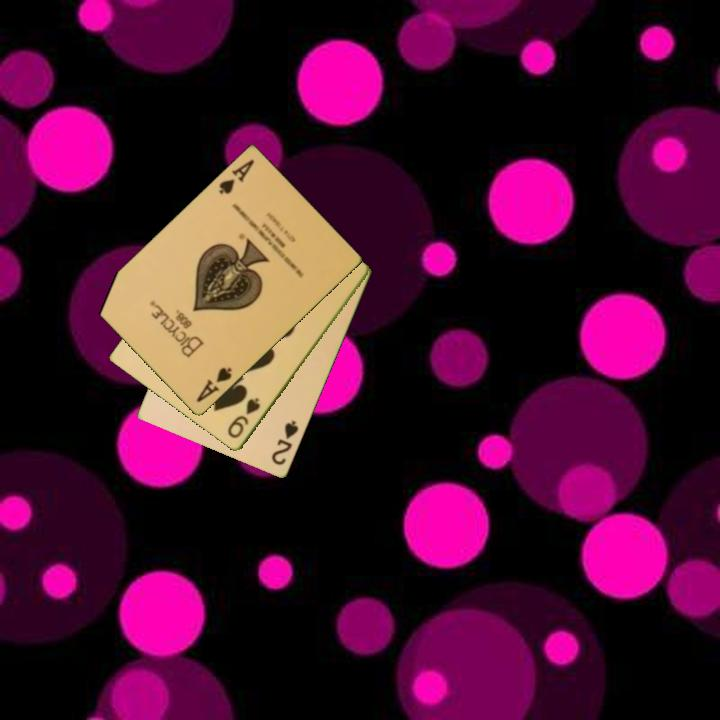2s: (268, 417, 302, 468)
9s: (224, 394, 263, 442)
As: (215, 156, 257, 198), (193, 364, 235, 405)
